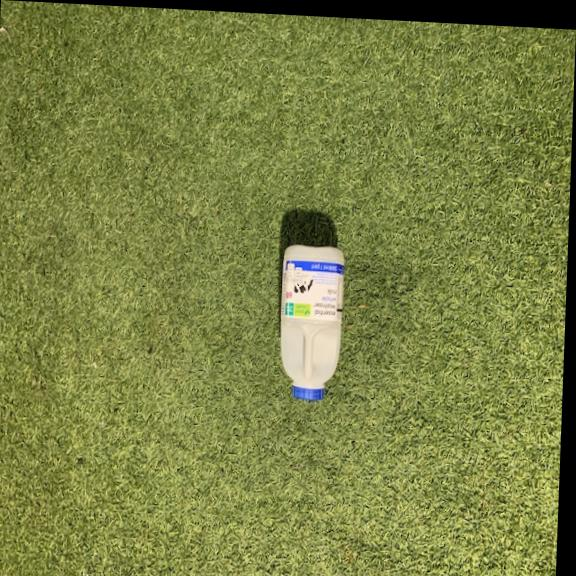Plastik: (273, 238, 347, 405)
